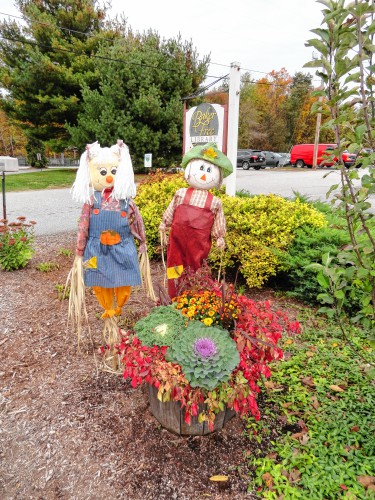person-like: (60, 138, 159, 379), (155, 142, 237, 302)
